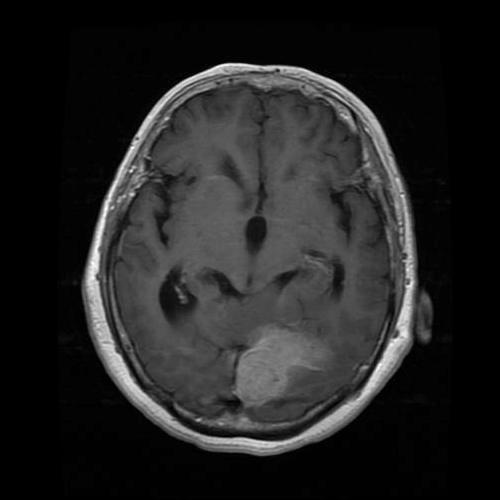Tumour-Meningioma: (221, 311, 337, 424)
